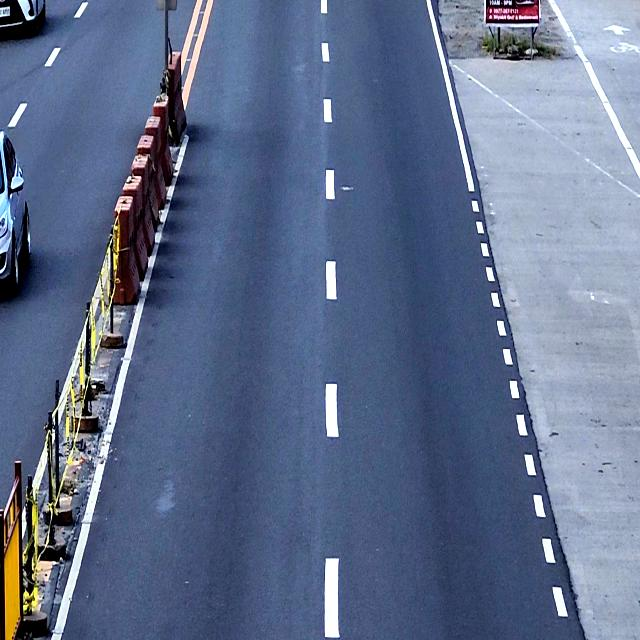Car: (0, 130, 31, 292), (0, 0, 47, 36)
License-Plate: (0, 5, 10, 18)
